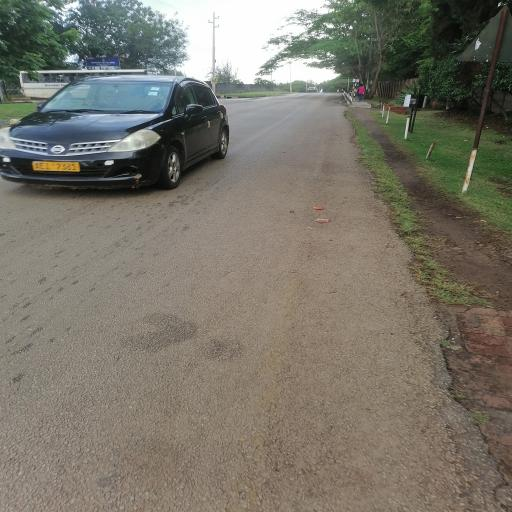number-plates: (27, 155, 91, 174)
